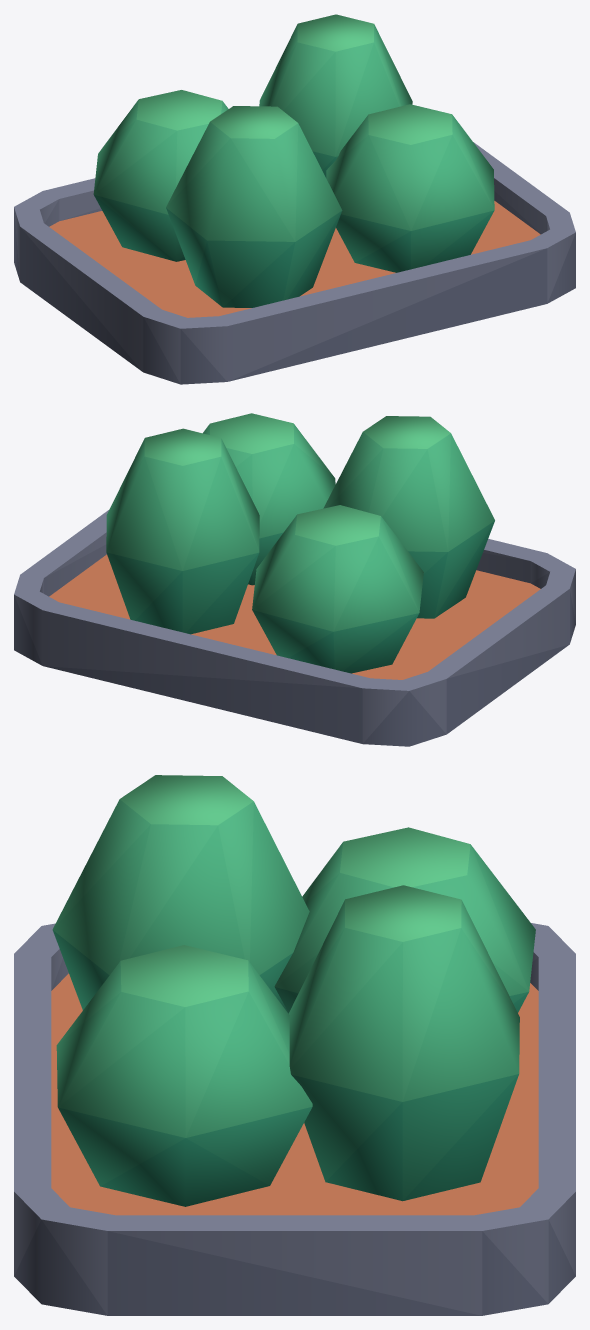
Rendered from planter.obj.
3 renders of one model, top to bottom at view 1: azimuth 30°, elevation 25°; view 2: azimuth 150°, elevation 25°; view 3: azimuth 270°, elevation 25°, orthographic. The views are drawn at different scales.
Size of the model in its own units: 0.4 by 0.1771 by 0.3.
